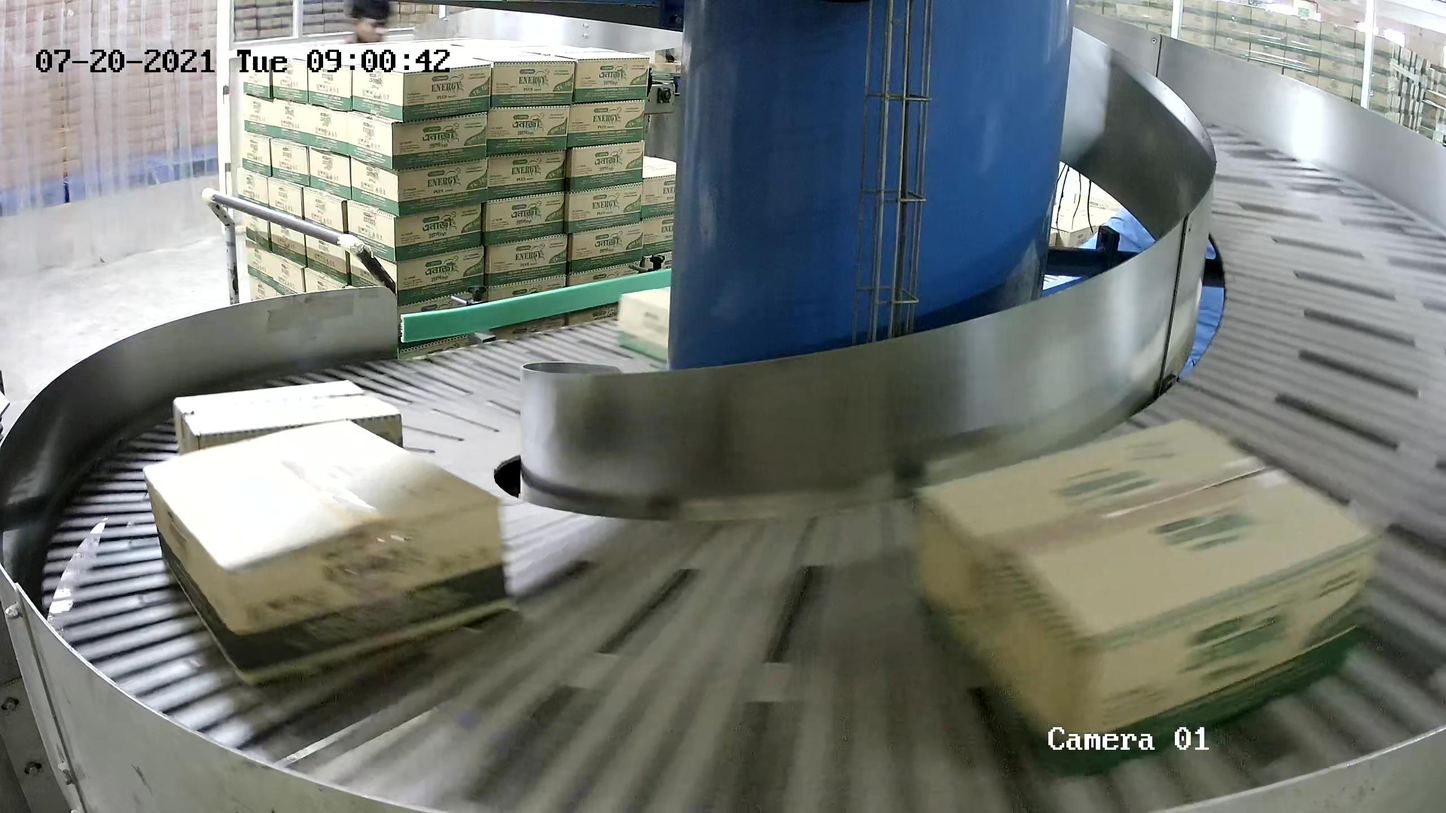Box: (911, 414, 1383, 778), (143, 419, 514, 685), (617, 286, 671, 361)
